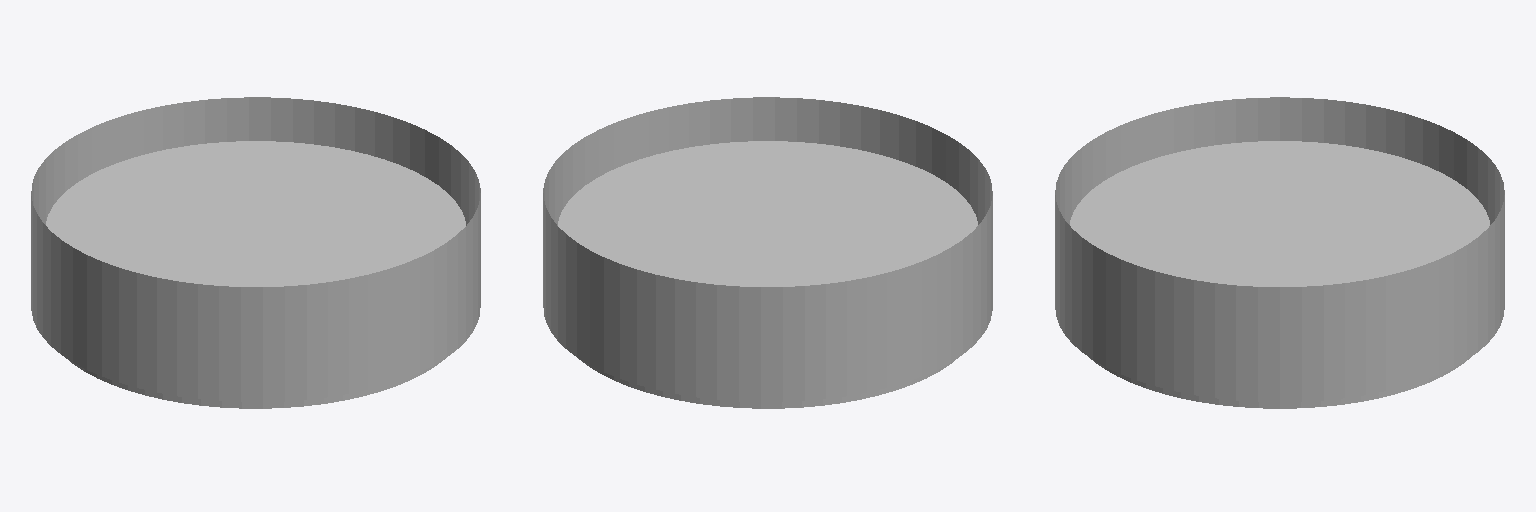
File: drumsetV4_SmaolDrumBody001_Keyframe.obj
3 views of the same model, side by side, from view 1: azimuth 30°, elevation 25°; view 2: azimuth 150°, elevation 25°; view 3: azimuth 270°, elevation 25° (orthographic).
Parts seen in each view (by area): view 1: drumsetV4_SmaolDrumBody001_Cylinder.033; view 2: drumsetV4_SmaolDrumBody001_Cylinder.033; view 3: drumsetV4_SmaolDrumBody001_Cylinder.033.
Part boxes in pixels (left/top/right/bottom): drumsetV4_SmaolDrumBody001_Cylinder.033: left=31, top=97, right=480, bottom=408; drumsetV4_SmaolDrumBody001_Cylinder.033: left=543, top=97, right=992, bottom=408; drumsetV4_SmaolDrumBody001_Cylinder.033: left=1055, top=97, right=1504, bottom=408.
Size of the model in its own units: 1.52 by 0.4743 by 1.52.